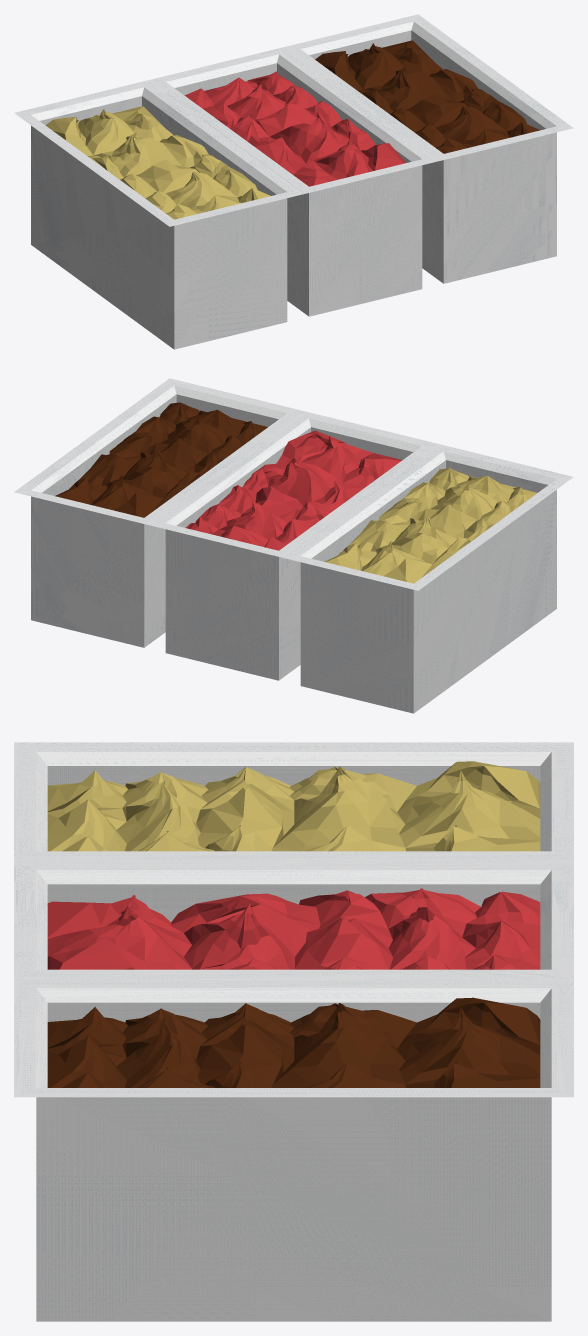
The model's file is Pots_filled_3.dae.
3 views of the same model, one above another, from view 1: azimuth 30°, elevation 25°; view 2: azimuth 150°, elevation 25°; view 3: azimuth 270°, elevation 25° (orthographic). The views are drawn at different scales.
Visible parts, largest first — view 1: instance_0, instance_0_004, instance_0_002, Plane_001, Plane, Plane_002, instance_0_001, instance_0_005, instance_0_003; view 2: instance_0, instance_0_004, instance_0_002, Plane_001, Plane, Plane_002, instance_0_001, instance_0_005, instance_0_003; view 3: instance_0_004, Plane, Plane_002, Plane_001, instance_0_002, instance_0_003, instance_0_005, instance_0_001, instance_0.
Part boxes in pixels (bbox=[...]): instance_0: bbox=[31, 87, 287, 349]; instance_0_004: bbox=[301, 21, 556, 283]; instance_0_002: bbox=[166, 54, 422, 316]; Plane_001: bbox=[184, 71, 405, 186]; Plane: bbox=[45, 106, 270, 219]; Plane_002: bbox=[315, 40, 540, 153]; instance_0_001: bbox=[14, 80, 303, 226]; instance_0_005: bbox=[284, 14, 573, 160]; instance_0_003: bbox=[149, 47, 438, 193]; instance_0: bbox=[300, 451, 556, 713]; instance_0_004: bbox=[31, 385, 286, 647]; instance_0_002: bbox=[165, 418, 421, 680]; Plane_001: bbox=[185, 430, 402, 550]; Plane: bbox=[324, 468, 537, 583]; Plane_002: bbox=[55, 402, 267, 517]; instance_0_001: bbox=[284, 444, 573, 590]; instance_0_005: bbox=[14, 378, 303, 524]; instance_0_003: bbox=[149, 411, 438, 557]; instance_0_004: bbox=[36, 988, 551, 1321]; Plane: bbox=[47, 761, 540, 851]; Plane_002: bbox=[47, 997, 540, 1087]; Plane_001: bbox=[47, 888, 540, 969]; instance_0_002: bbox=[36, 870, 551, 969]; instance_0_003: bbox=[14, 860, 573, 978]; instance_0_005: bbox=[14, 979, 573, 1097]; instance_0_001: bbox=[14, 742, 573, 860]; instance_0: bbox=[36, 752, 551, 851].
Bounding box in the file's own units: 0.7498 × 0.5 × 0.2562.
